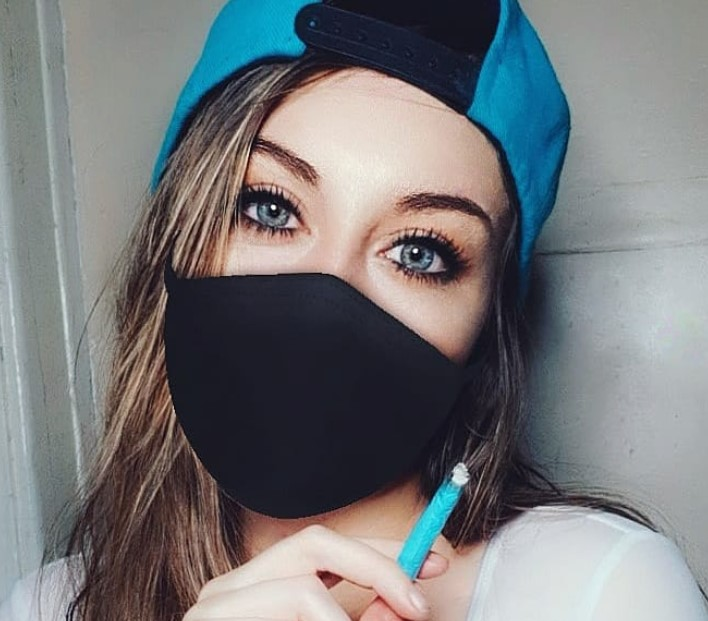face_with_mask: (165, 2, 566, 515)
